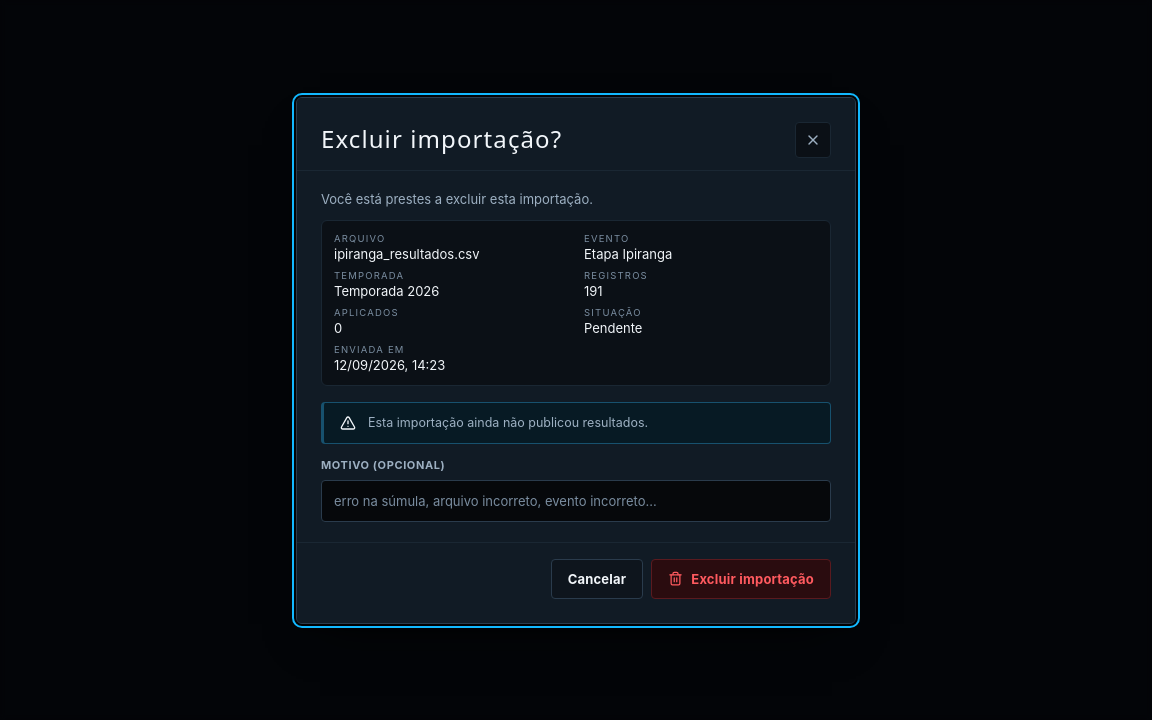
Test: o que a confirmação envia, e o que ela diz depois › erro do servidor aparece em português, e não como erro técnico
Click the button "Excluir importação". click: (741, 578)
box: [651,558,831,598]
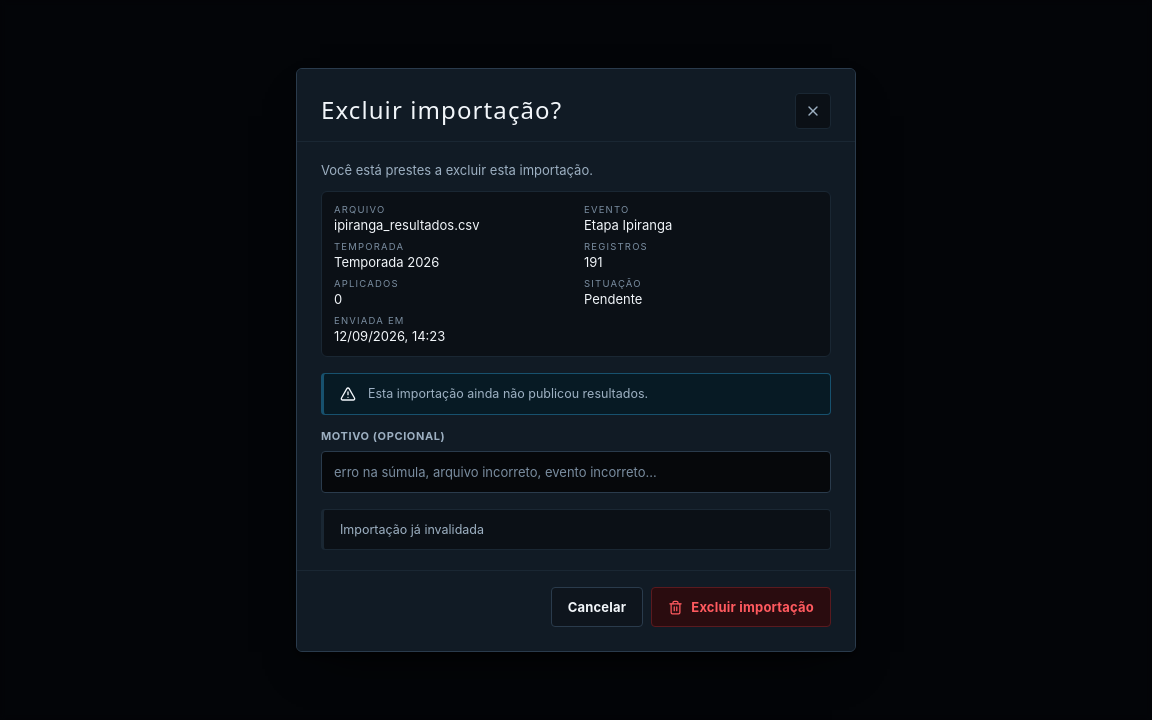
Check: the text "Importação já invalidada" is shown, box [340,522,484,537]
